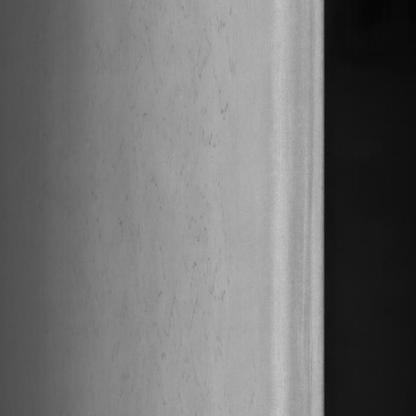silk_spot: (127, 0, 240, 345)
